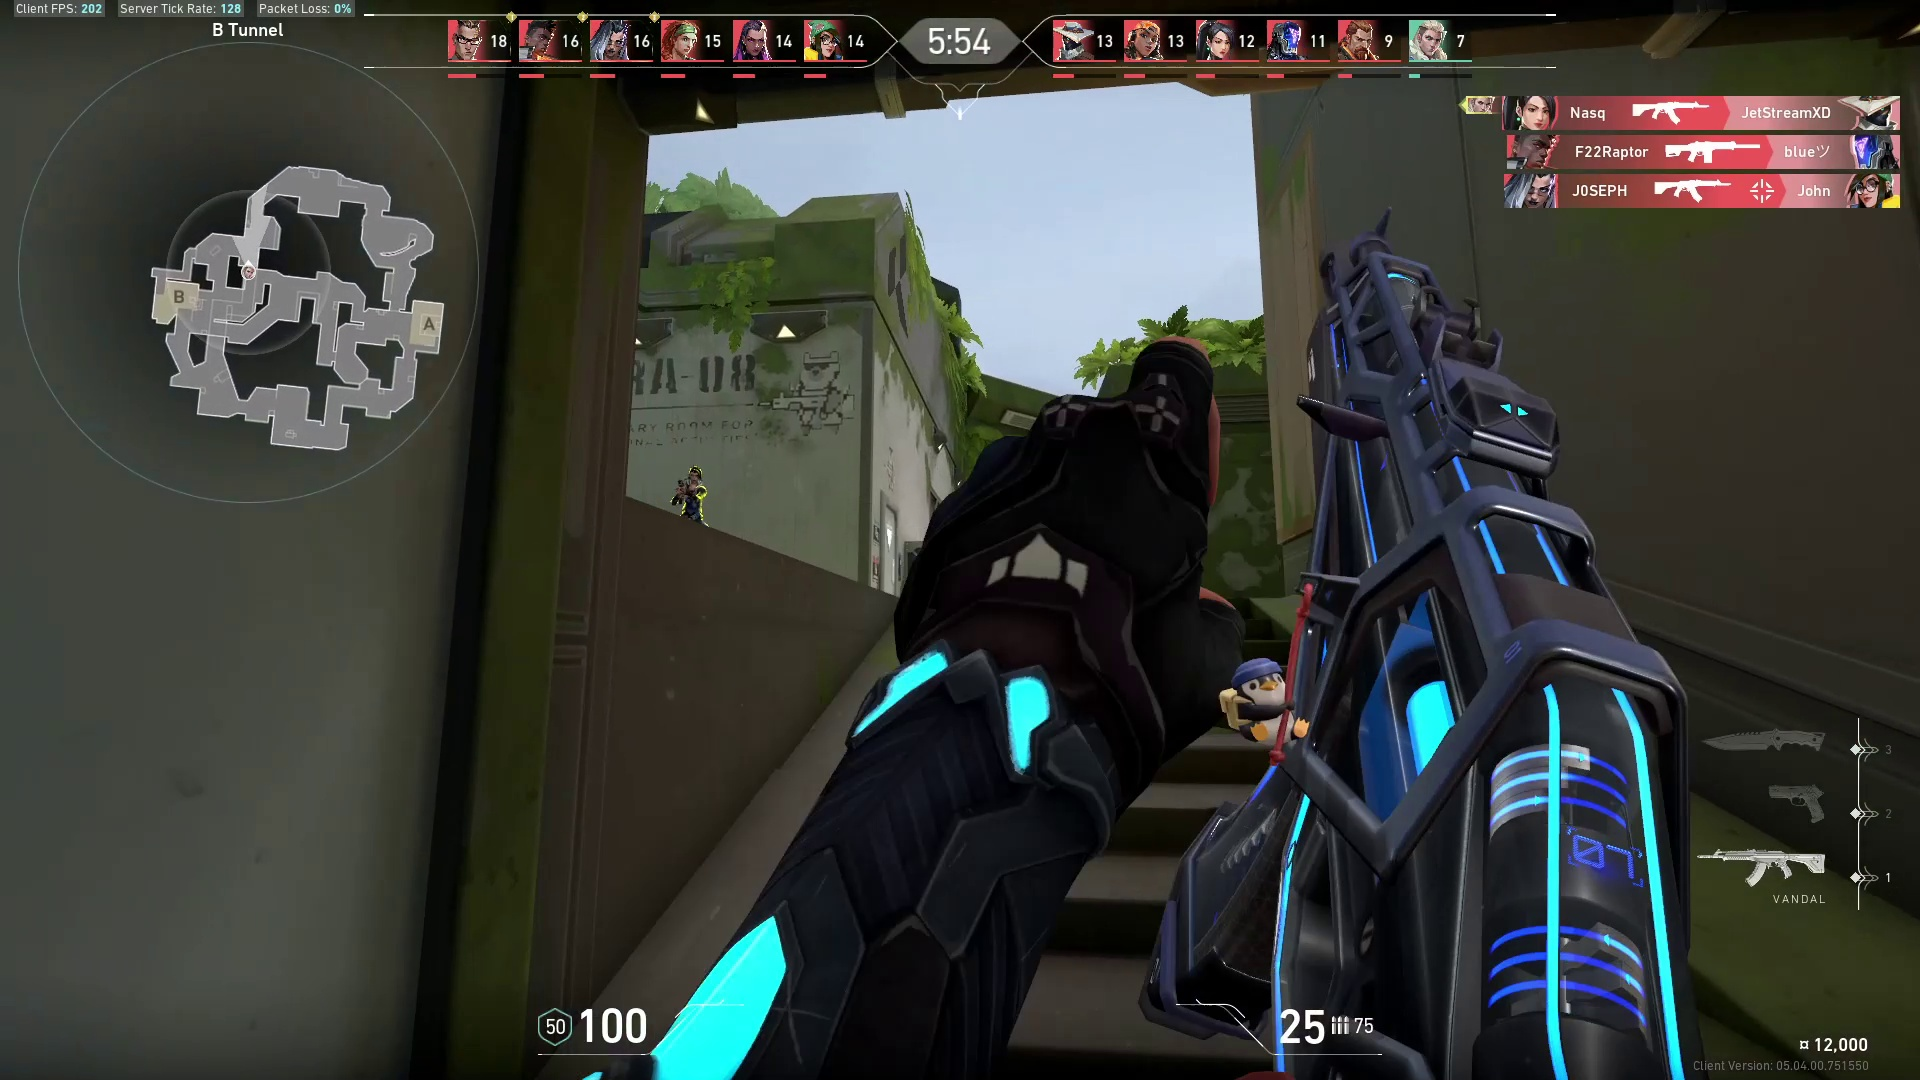enemy_body: (669, 480, 713, 524)
enemy_head: (684, 462, 705, 487)
